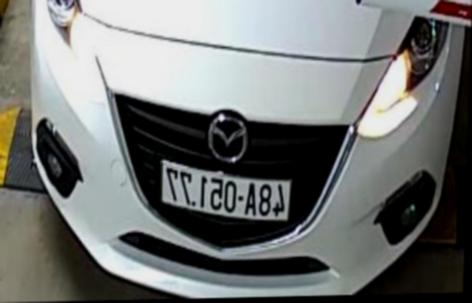License_Plate: (148, 158, 300, 226)
